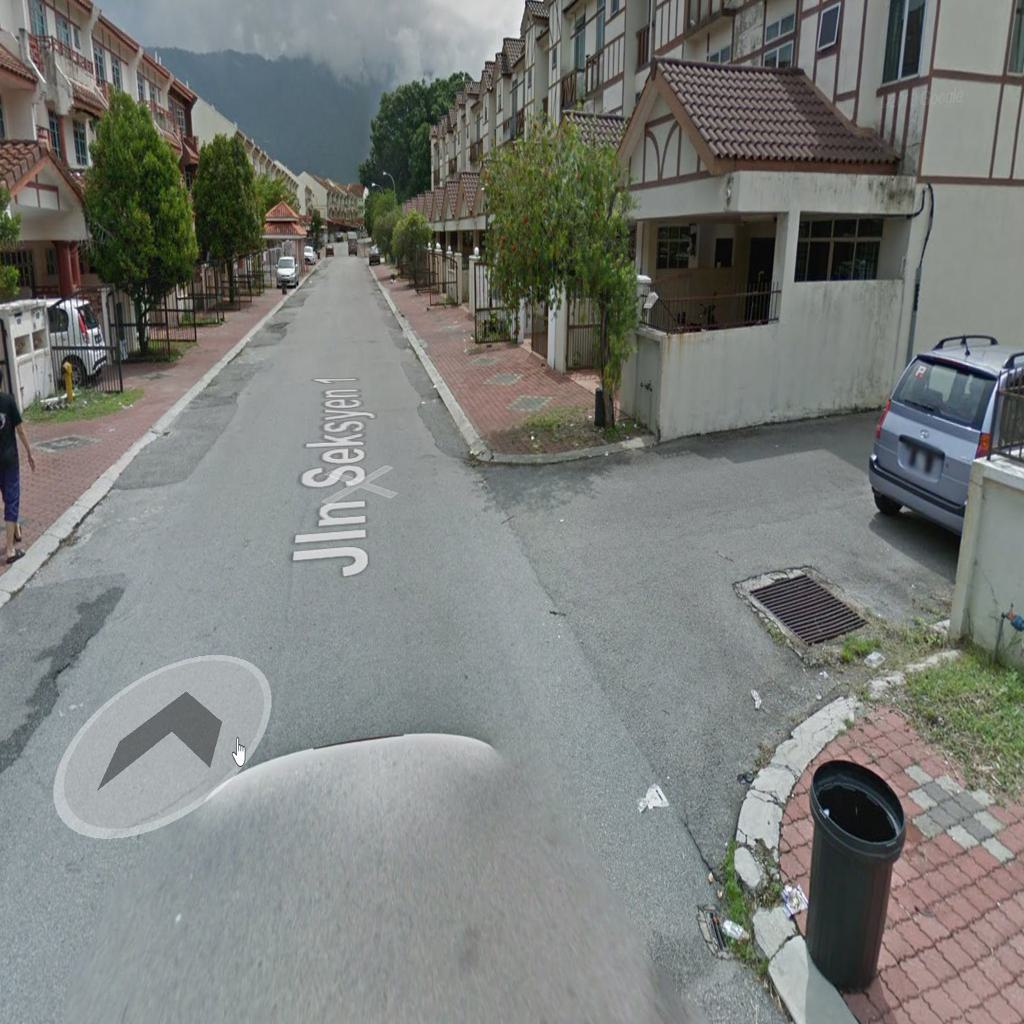Junction: (420, 396, 955, 882)
